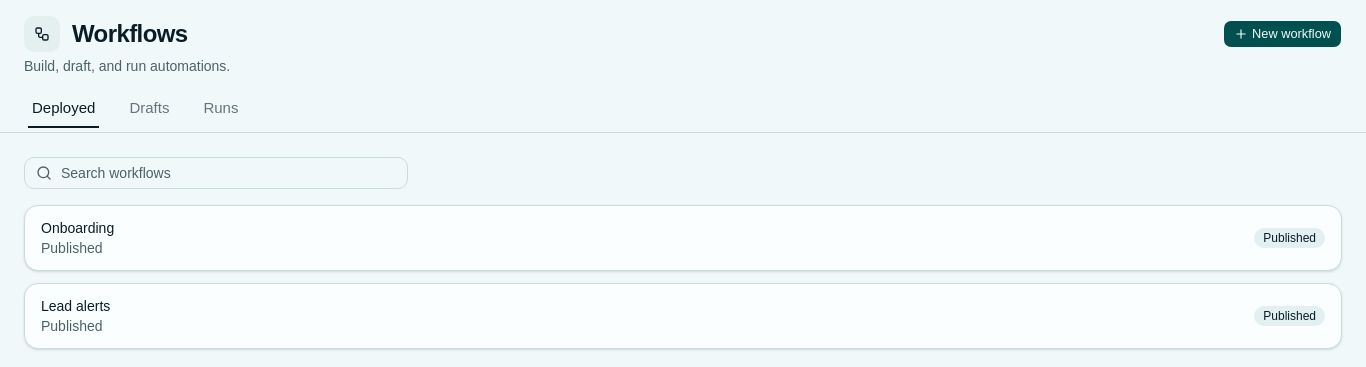
Test case: WorkflowsPage › filters the list with search
Expected: the list named "Workflows" is shown, [24,205,1342,349]
Type "Lead" into the field labelled "Search workflows" at [216, 173], box [24,157,408,189]
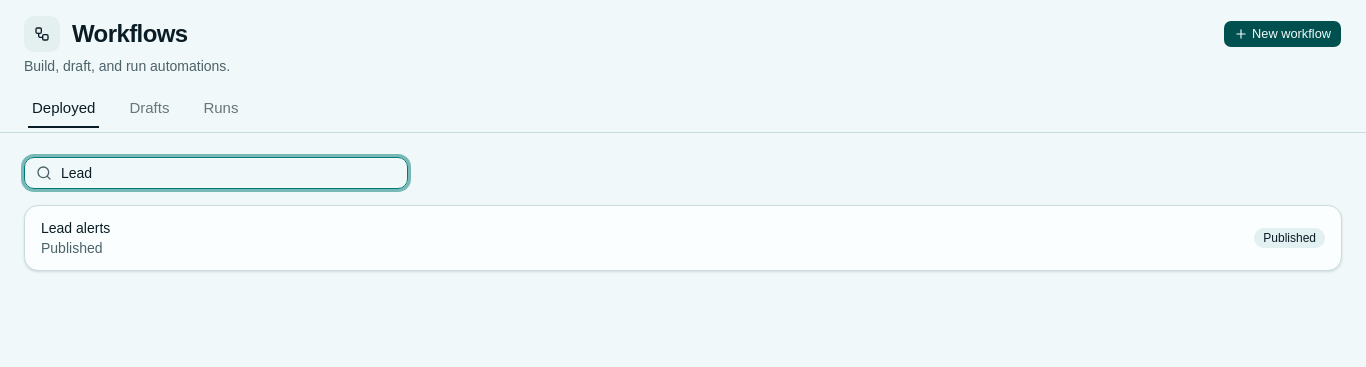
Expected: the text "Lead alerts" is shown, [41,218,110,238]
Result: the list item "Onboarding" is gone
